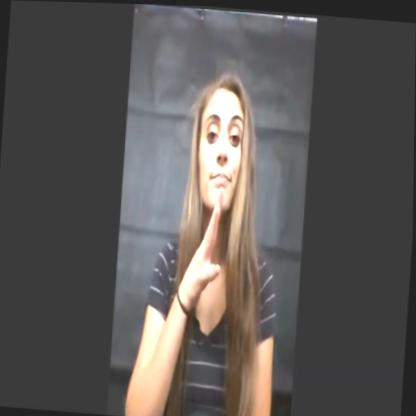Talk: (174, 70, 278, 320)
